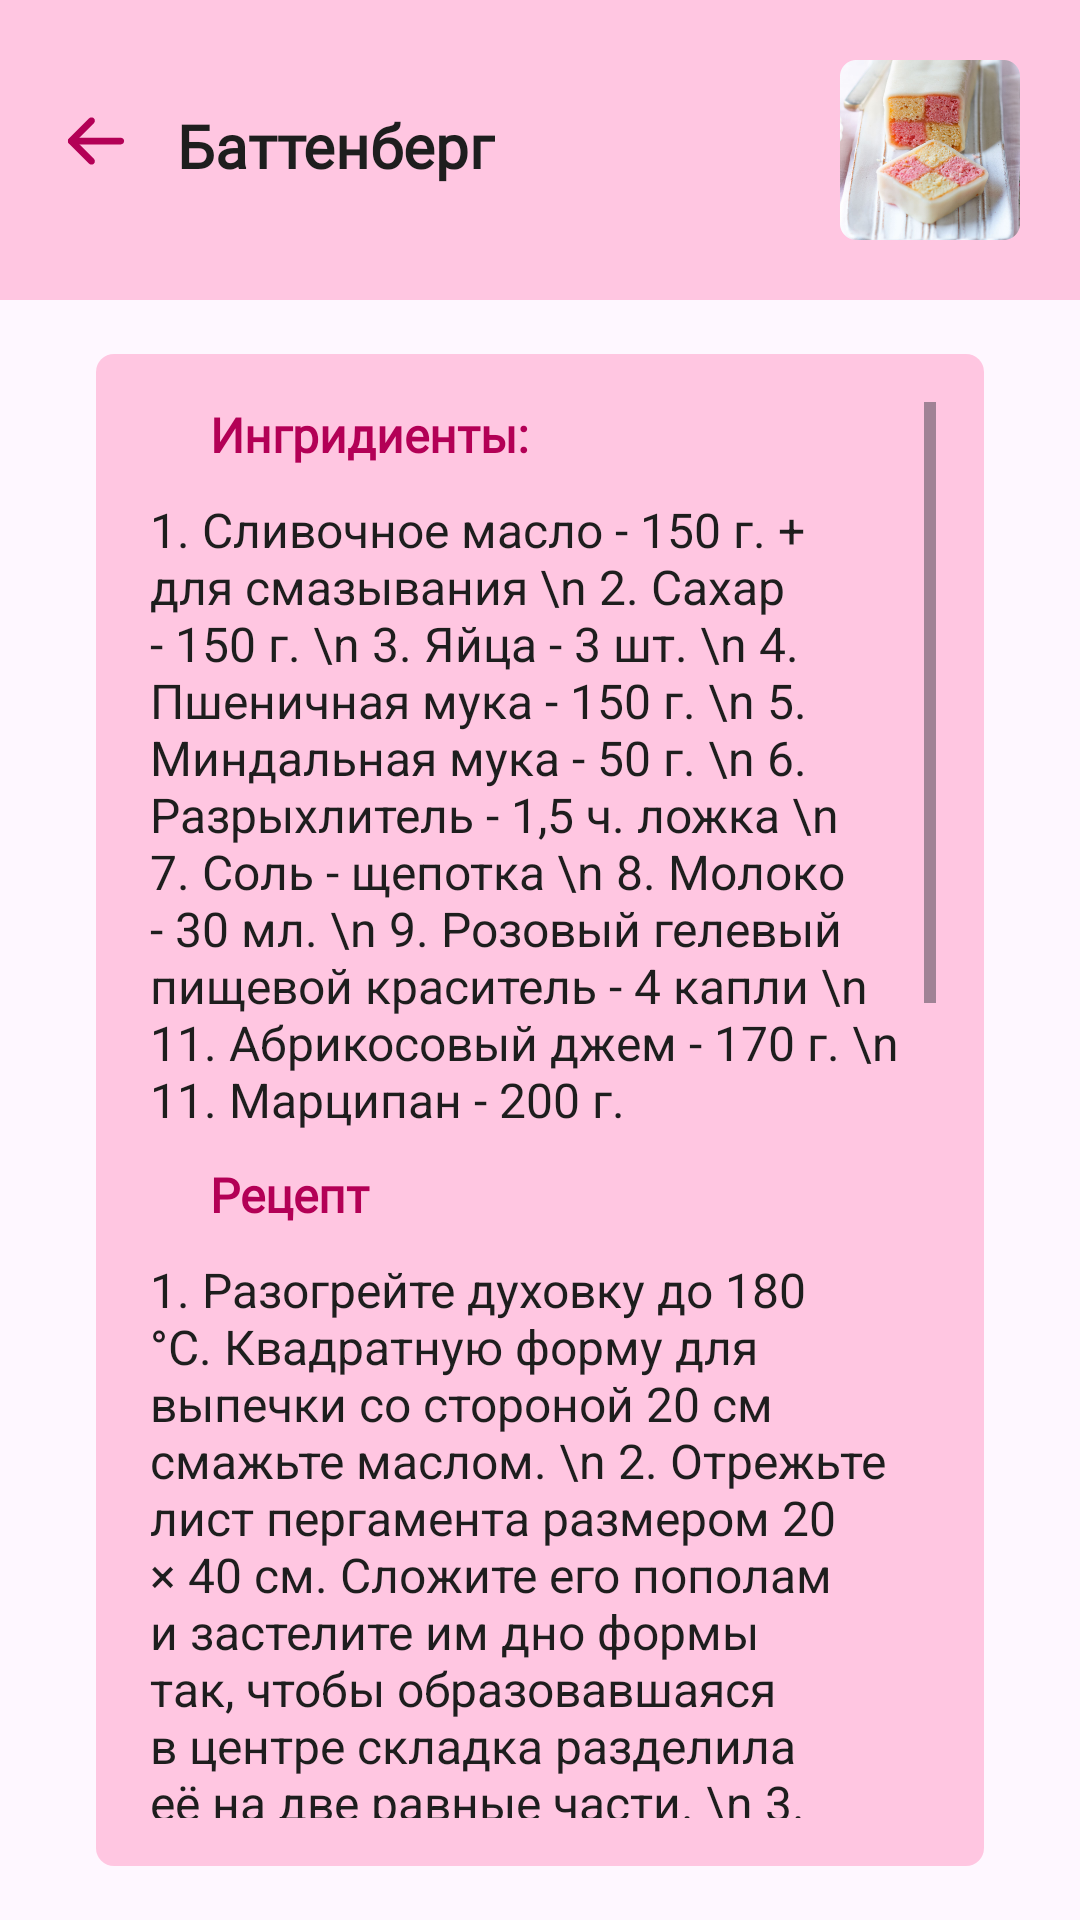

Named icons in this screenshot (1080 x 1920) and their bounding boxes, (x1, y1, x2, y2):
second back: (68, 117, 124, 165)
